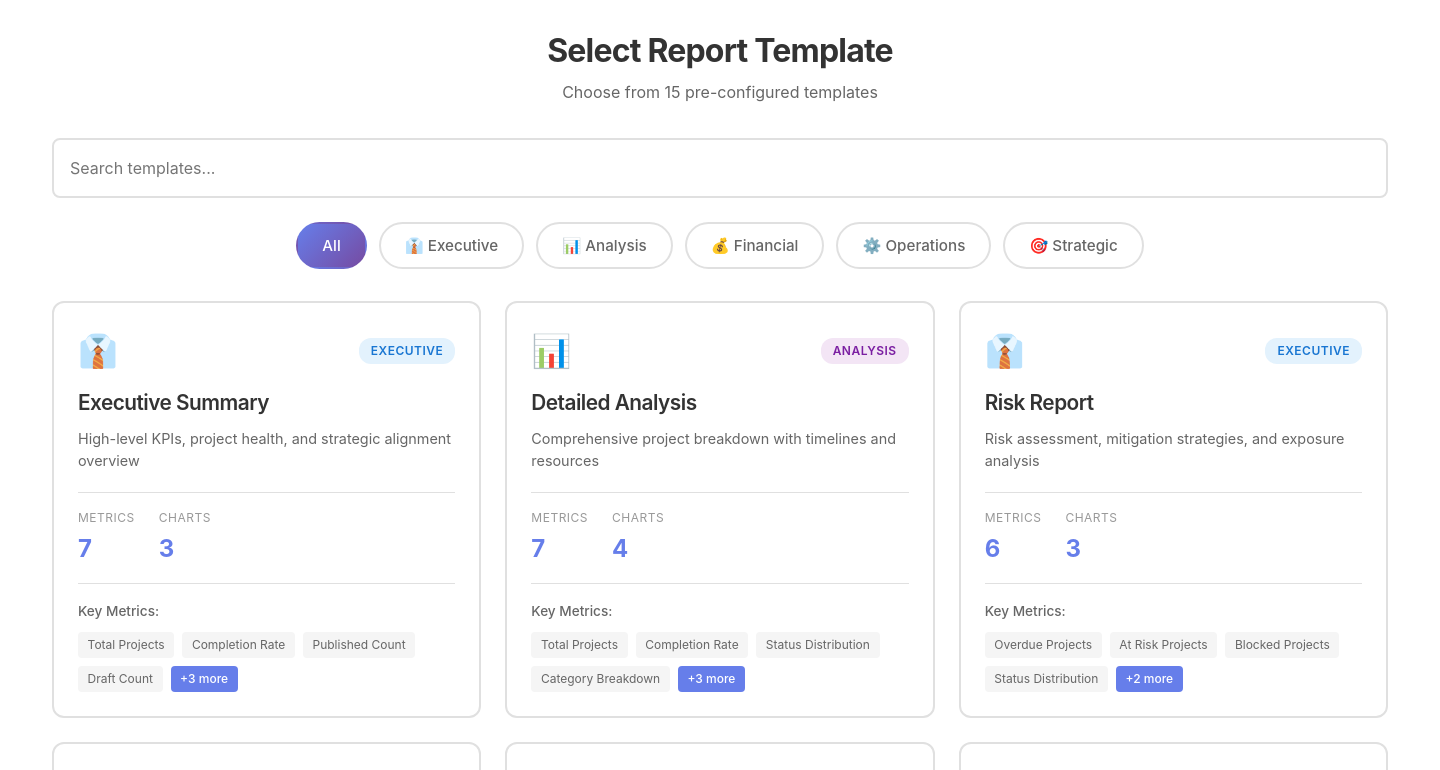
Test case: TemplateSelector › Search Functionality › should show clear button when search has text
Type "financial" into the field with placeholder "Search templates..." at coordinates (720, 168), box [52,138,1388,198]
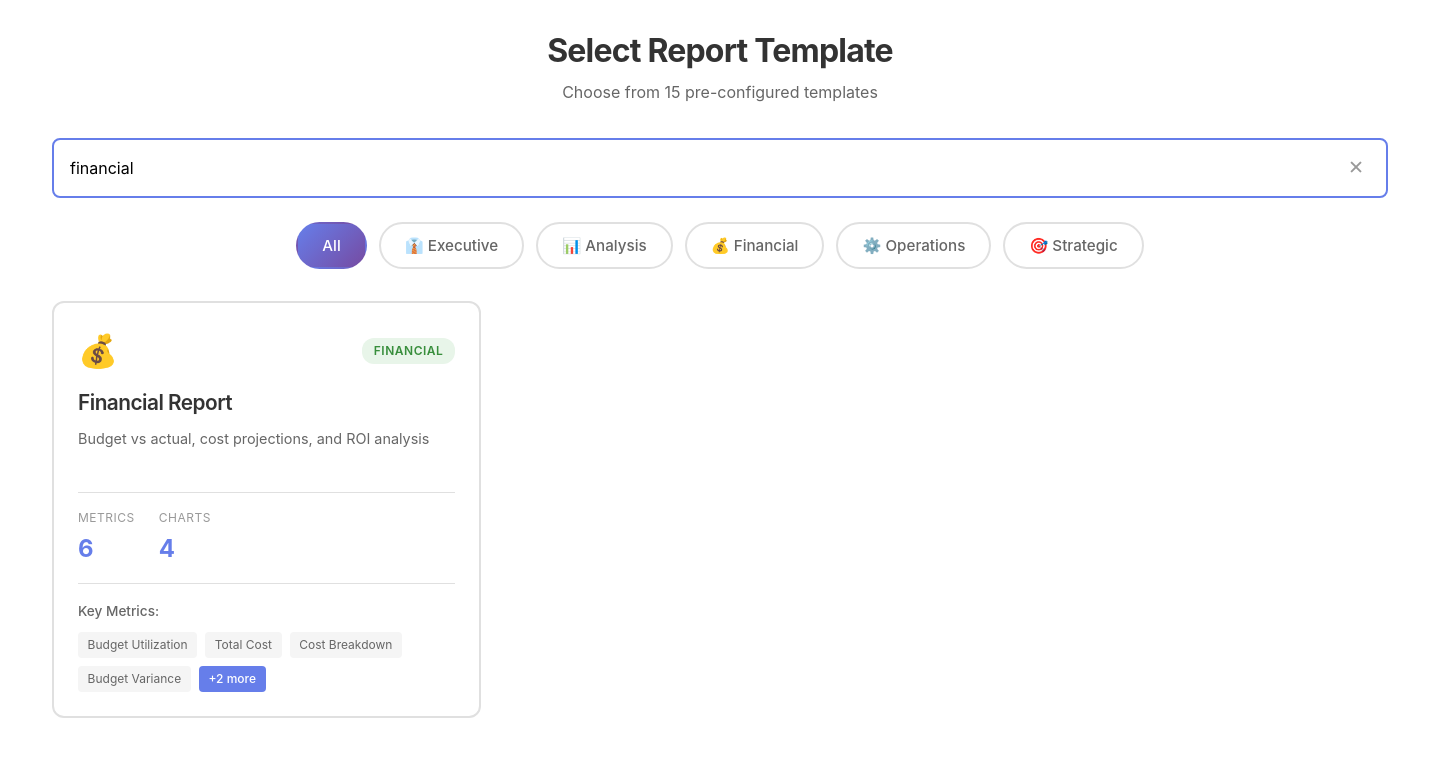
Expected: the button named "Clear search" is shown, [1340,151,1372,186]
